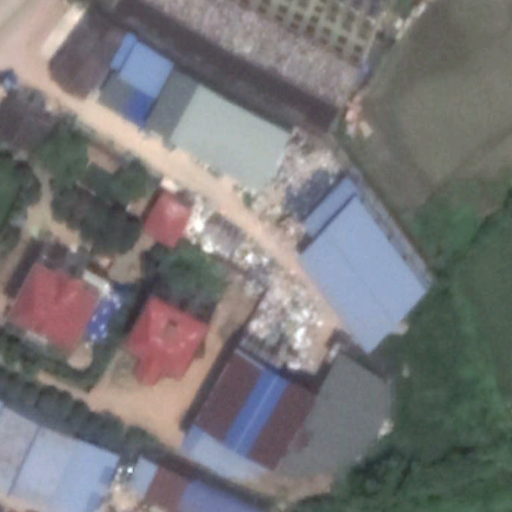msw: (179, 203, 321, 375), (257, 145, 343, 234)
